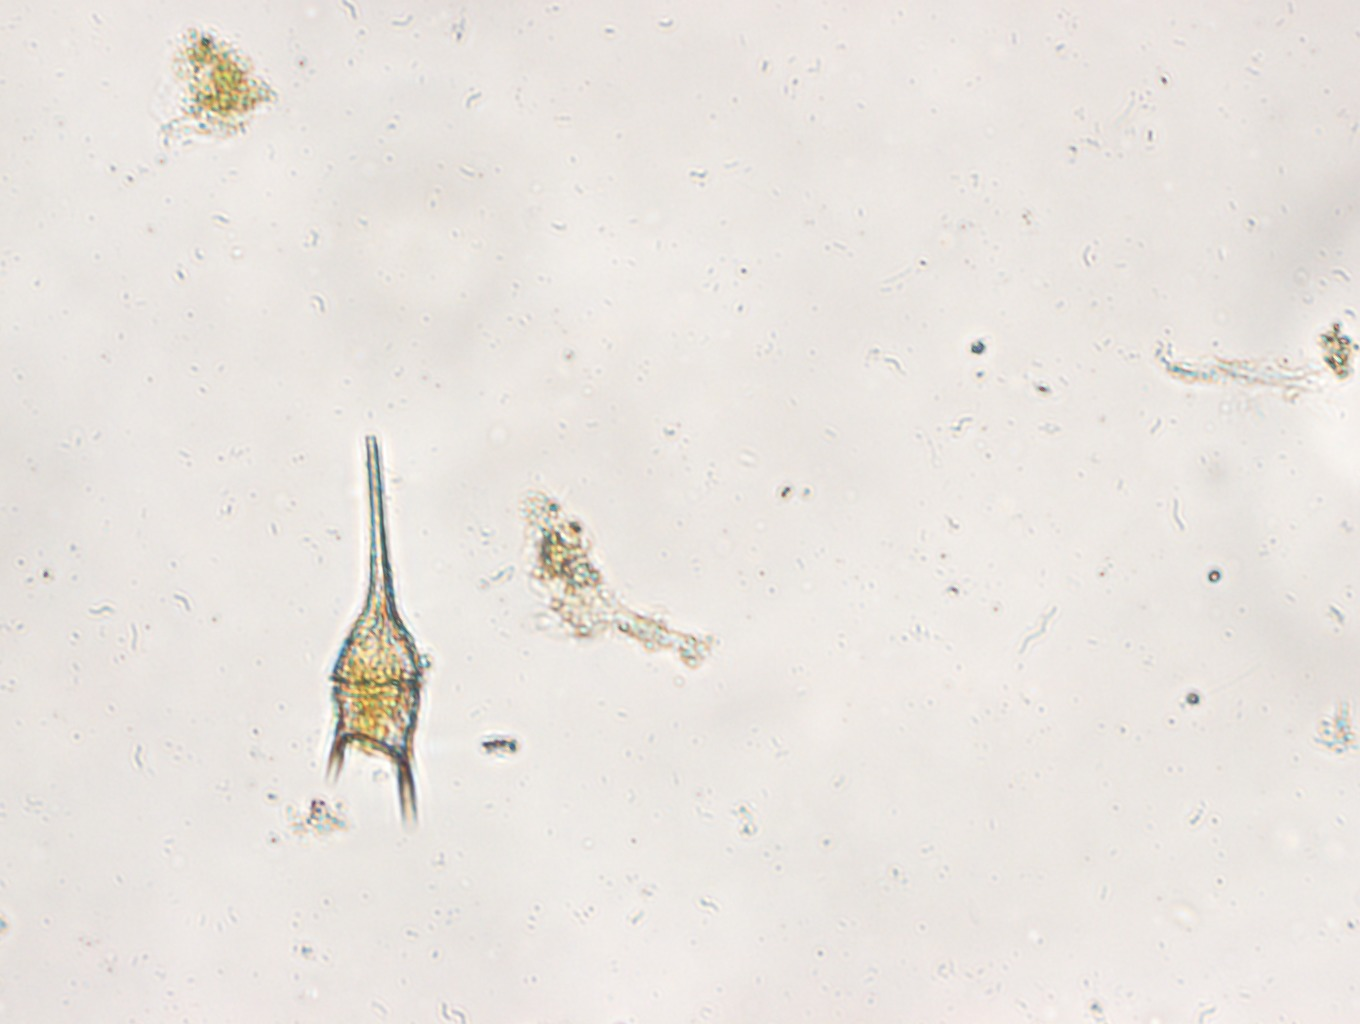ceratium furca: (318, 428, 436, 827)
